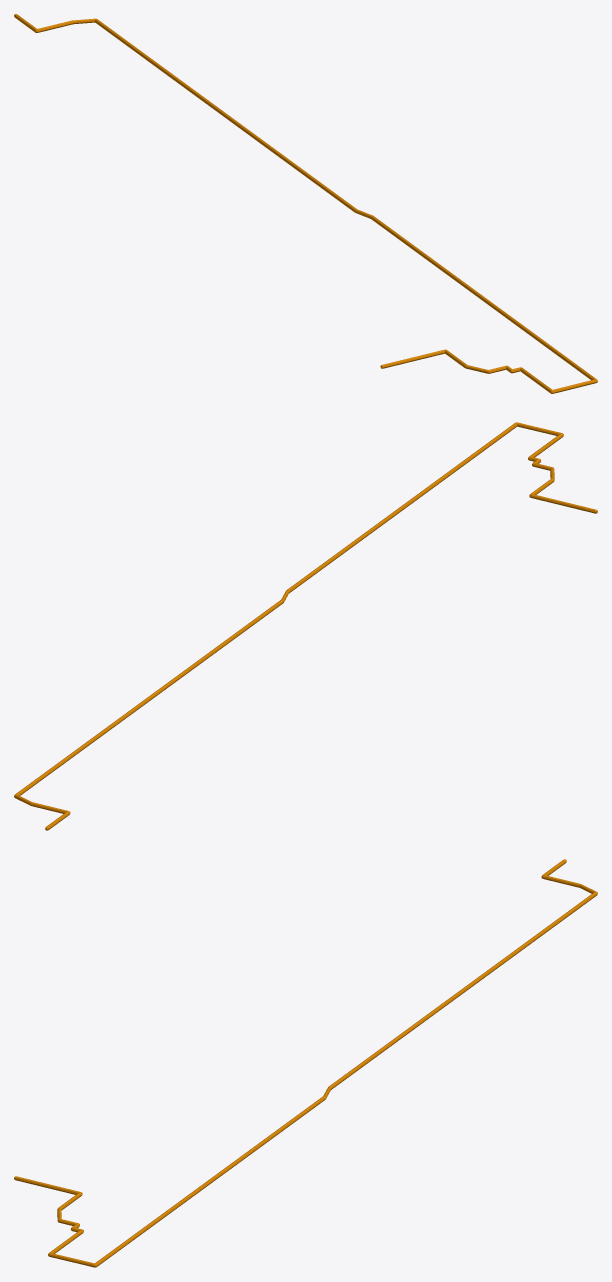
The picture shows the model from 3 angles, top to bottom: view 1: azimuth 30°, elevation 25°; view 2: azimuth 150°, elevation 25°; view 3: azimuth 330°, elevation 25°; orthographic projection. The views are drawn at different scales.
Bounding box in the file's own units: 827 × 20 × 5010.
